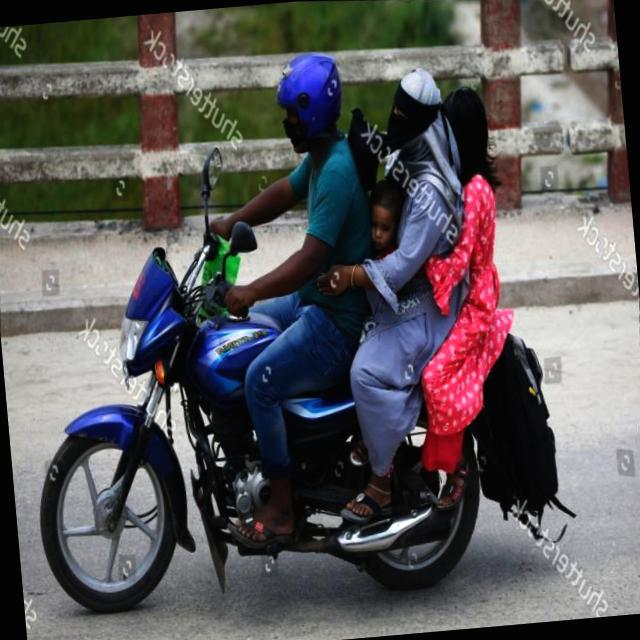motorcycle: (14, 217, 572, 630)
person: (216, 46, 392, 436), (392, 77, 542, 433), (345, 62, 476, 400), (339, 172, 438, 378)
rider_region: (0, 36, 541, 623)
